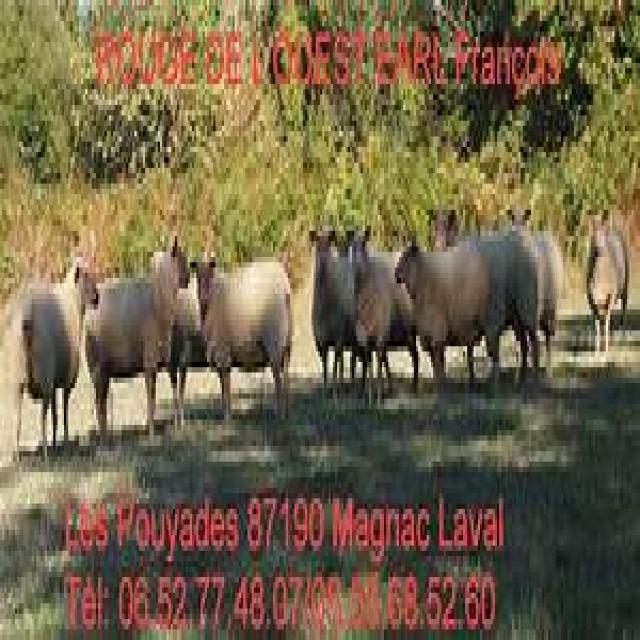sheep: (72, 230, 190, 440), (4, 252, 98, 462), (190, 252, 292, 419), (392, 236, 490, 383), (346, 231, 418, 404), (582, 220, 628, 352)
